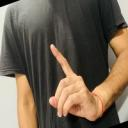hand: (48, 43, 105, 121)
